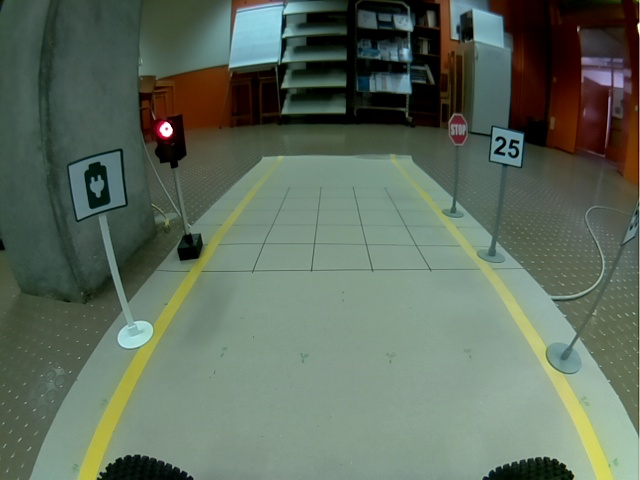battery: (67, 148, 127, 222)
speed25: (488, 126, 525, 168)
stop: (448, 113, 469, 146)
trafficLightRed: (154, 114, 187, 163)
